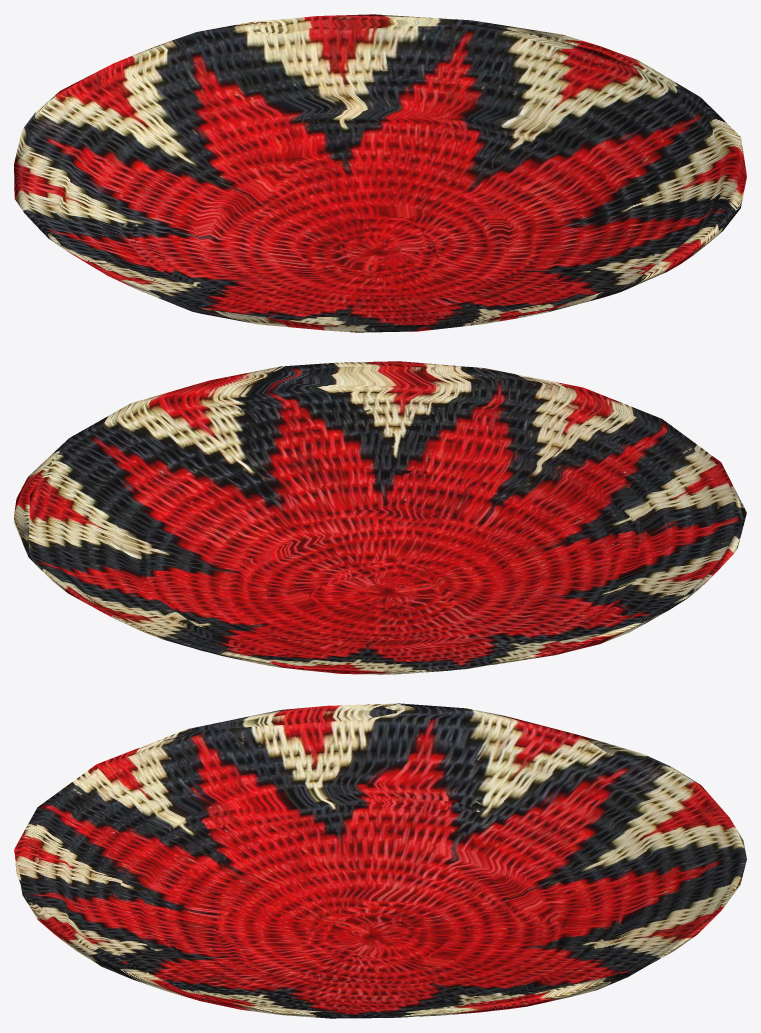
Rendered from sefed-8-.005.fbx.
3 renders of one model, top to bottom at view 1: azimuth 30°, elevation 25°; view 2: azimuth 150°, elevation 25°; view 3: azimuth 270°, elevation 25°, orthographic.
Parts seen in each view (by area): view 1: sefed-8-.005; view 2: sefed-8-.005; view 3: sefed-8-.005.
Part boxes in pixels (<box>): sefed-8-.005: <box>14,14,746,332</box>; sefed-8-.005: <box>14,361,746,674</box>; sefed-8-.005: <box>14,703,746,1018</box>.
Size of the model in its own units: 37.68 by 4.9 by 37.77.
Materials: 1 (1 with a texture image).
